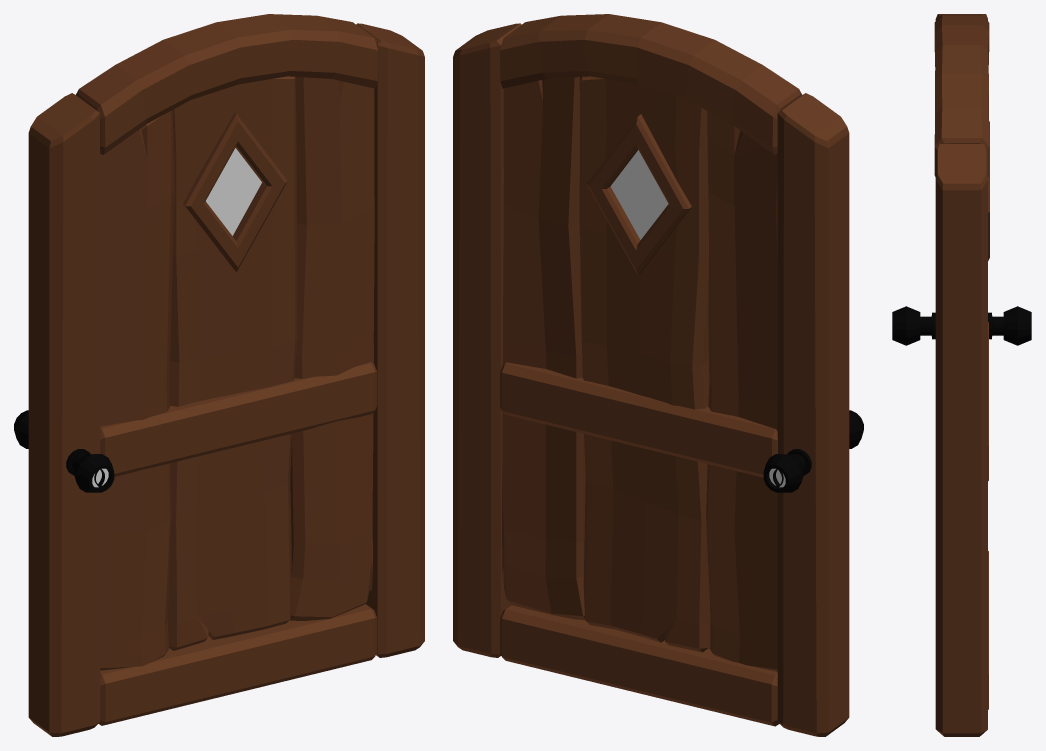
The model's file is Door.fbx.
3 views of the same model, side by side, from view 1: azimuth 30°, elevation 25°; view 2: azimuth 150°, elevation 25°; view 3: azimuth 270°, elevation 25° (orthographic). The views are drawn at different scales.
Parts seen in each view (by area): view 1: Door1; view 2: Door1; view 3: Door1.
Boxes of the visible parts, x1,y1,x2,y2 form: Door1: [14, 14, 424, 736]; Door1: [453, 14, 863, 736]; Door1: [892, 14, 1031, 736].
Bounding box in the file's own units: 610 × 1018 × 211.
